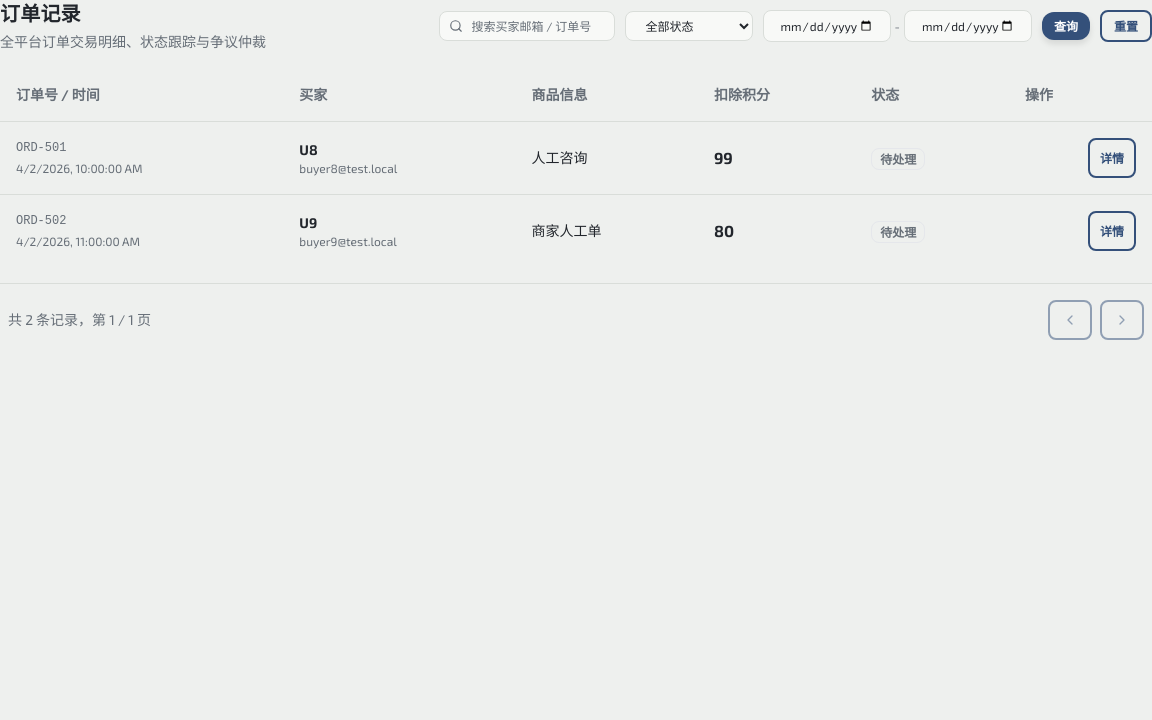
Test case: AdminOrderTable platform fulfillment › renders 开始履约 for platform pending manual order
Click the button with test id "admin-order-detail-501" at (1112, 158), box x1=1088 y1=138 x2=1136 y2=178
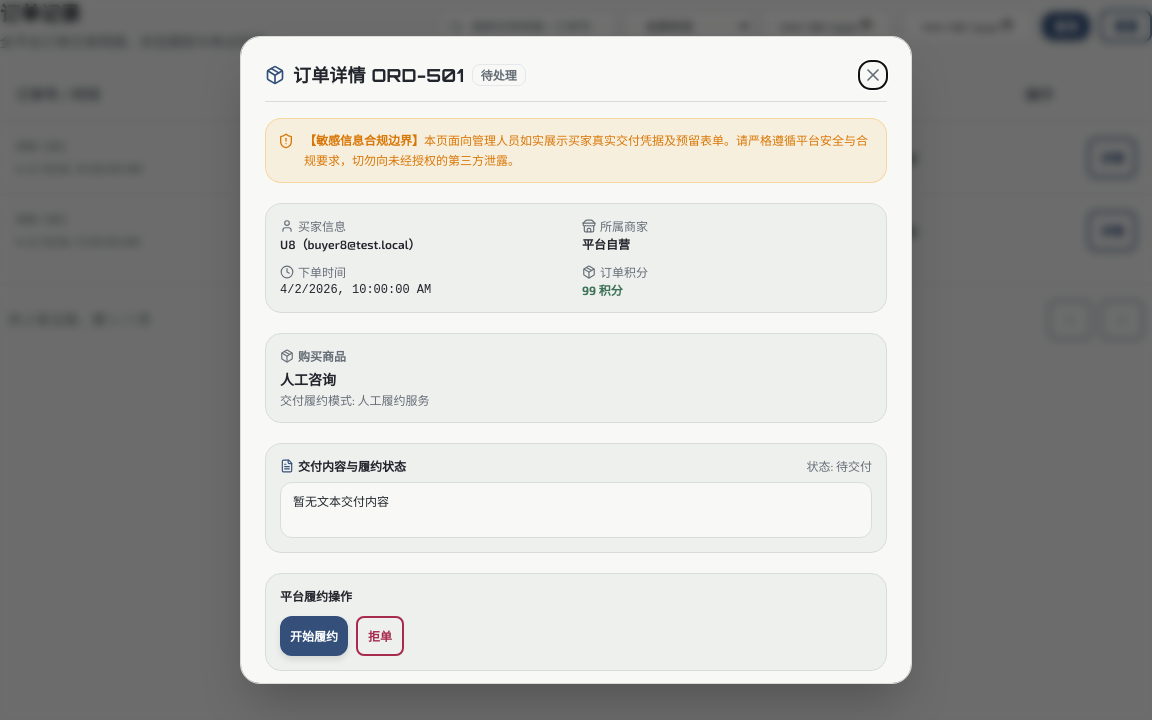
Check: the button with test id "admin-platform-start-fulfillment" reads "开始履约", box x1=280 y1=616 x2=348 y2=656
